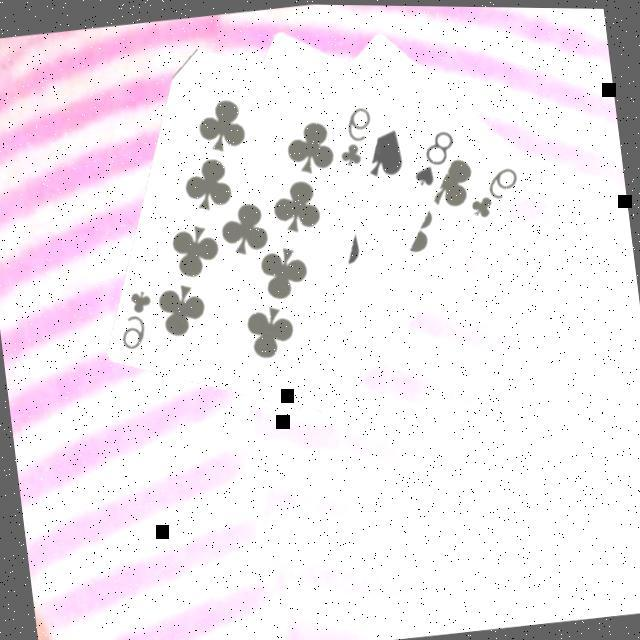8S: (404, 124, 461, 192)
9C: (462, 160, 524, 223), (329, 100, 379, 172), (110, 284, 160, 354)
